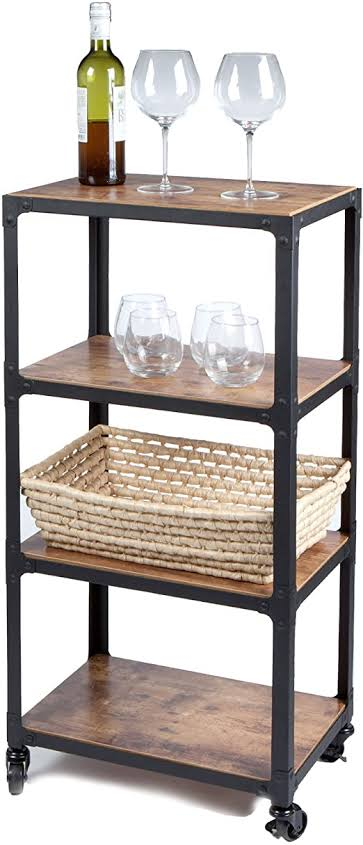Carts: (4, 172, 361, 844)
